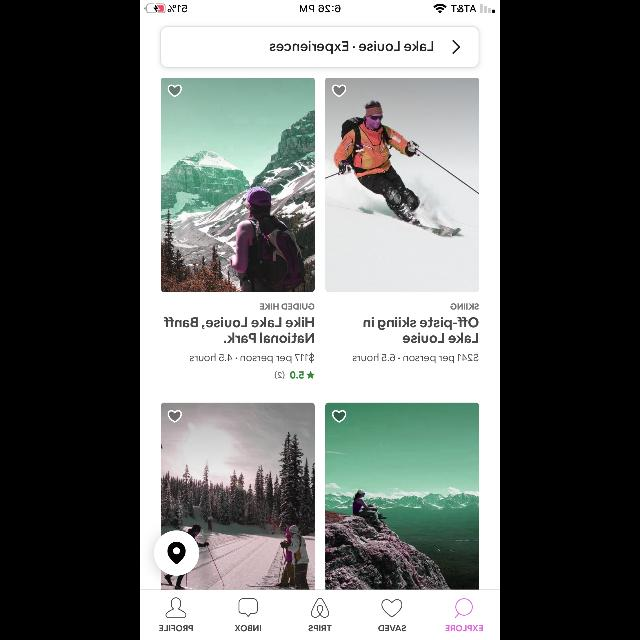icon: (154, 530, 200, 576), (166, 598, 186, 618), (238, 599, 258, 617), (382, 599, 402, 617), (454, 598, 472, 618), (332, 410, 346, 422), (168, 410, 182, 422), (332, 85, 346, 97), (168, 85, 182, 97), (452, 40, 460, 54), (306, 372, 314, 378)
image: (162, 78, 314, 292), (326, 78, 478, 292), (162, 403, 314, 589), (326, 403, 478, 589), (311, 598, 329, 618)
input: (161, 26, 479, 68)
text: (269, 41, 433, 54), (164, 316, 314, 329), (364, 316, 478, 329), (352, 352, 478, 363), (190, 352, 314, 363), (224, 332, 314, 343), (402, 332, 478, 343), (260, 304, 314, 310), (446, 625, 482, 631), (160, 625, 192, 631), (378, 625, 406, 631), (450, 303, 478, 309), (235, 625, 261, 631), (308, 625, 332, 631), (290, 372, 304, 378), (275, 371, 285, 379)
uppertaskbar: (140, 0, 500, 14)
